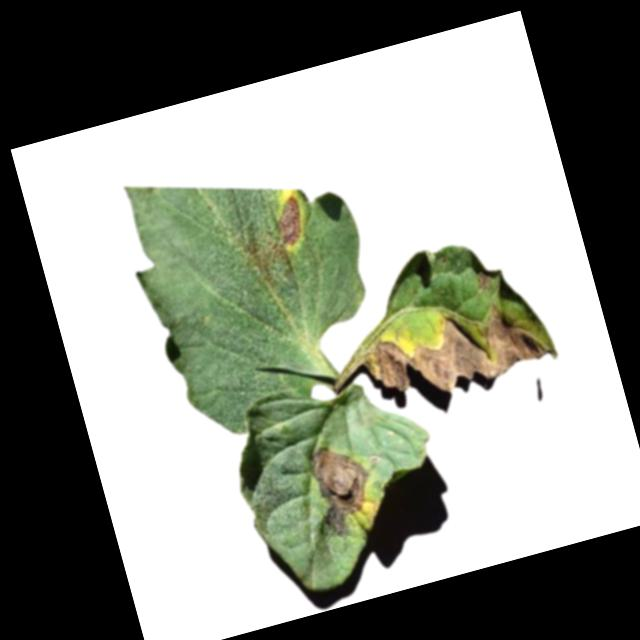Early_blight: (357, 287, 554, 409), (297, 436, 385, 543), (269, 191, 310, 248), (473, 267, 495, 289)
